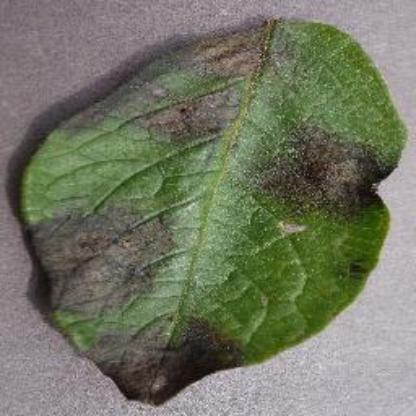Late-Blight: (10, 10, 408, 410)
